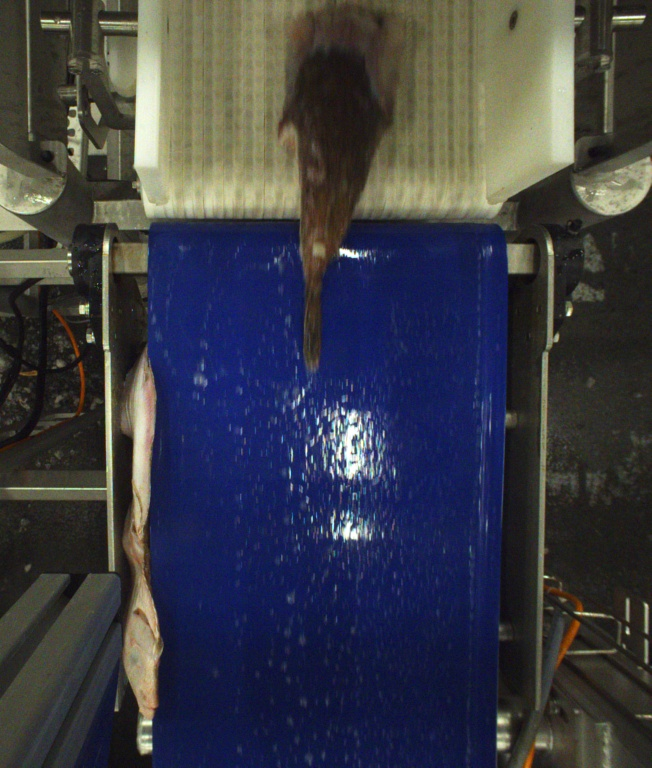ANF: (279, 0, 395, 380)
